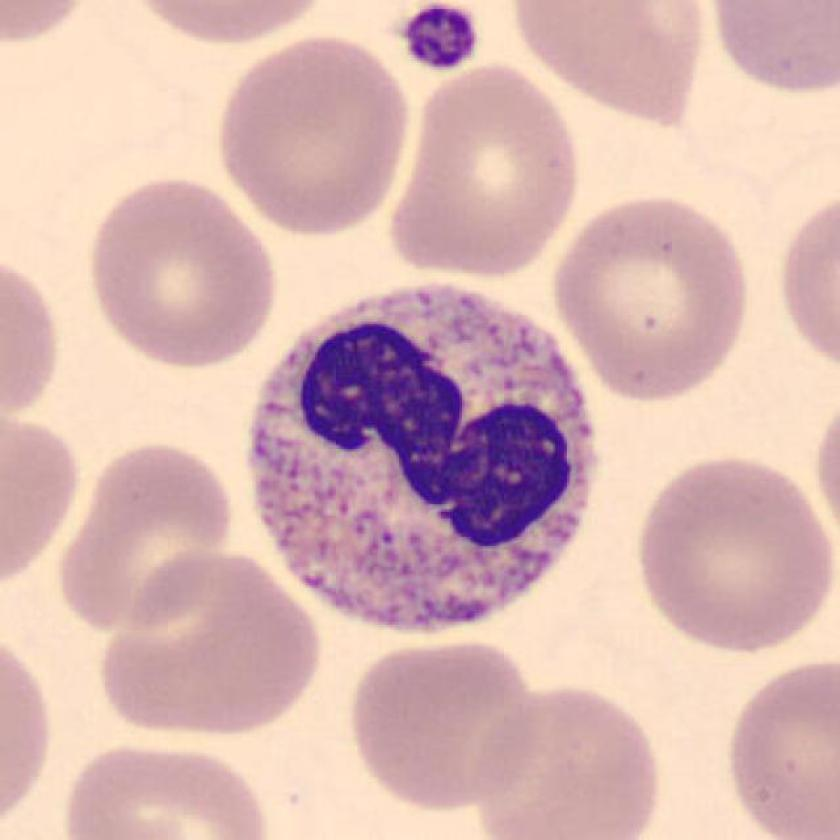neutrophil: (253, 283, 598, 630)
